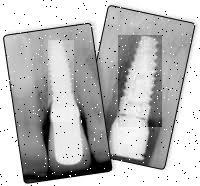BioHorizons: (117, 33, 174, 128), (42, 38, 76, 122)
